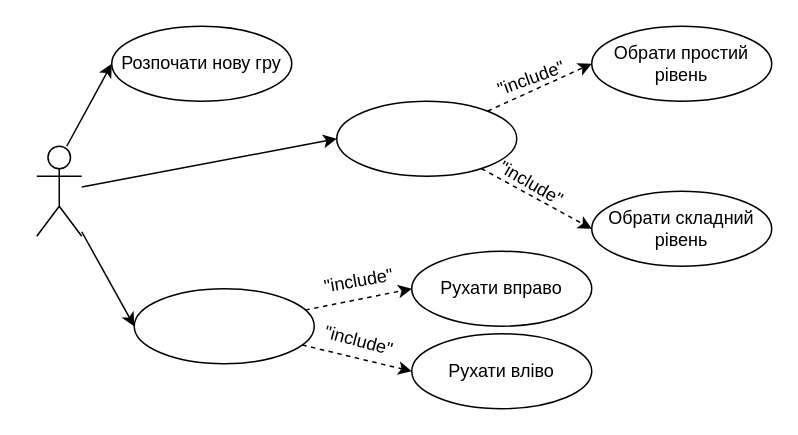
Some shapes in this 798 by 435 pixel diagram are drawn without their labels. The box of each missing label's shape, as (x1, y1, x2, y2) in pixels:
Гравець: (35, 145, 82, 236)
Обрати рівень складності: (335, 100, 517, 176)
Рухати платформу: (133, 287, 314, 364)
